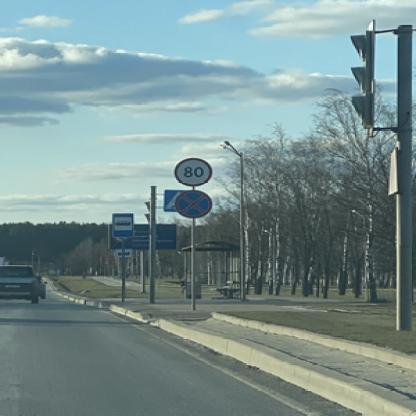Speed Limit 80: (178, 158, 212, 186)
